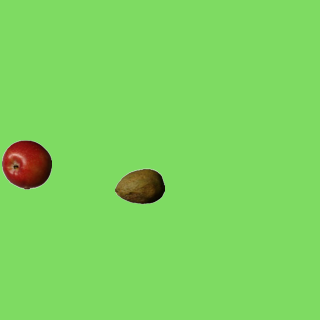Apple Braeburn: (1, 139, 51, 189)
Papaya: (114, 161, 164, 211)
